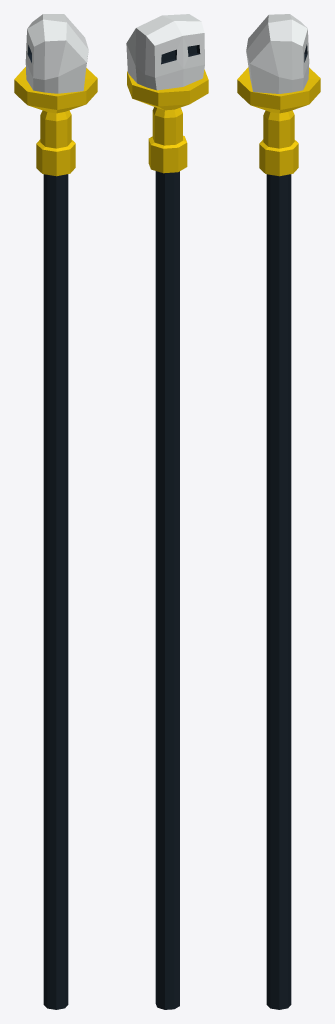
File: Staff2.fbx
3 renders of one model, left to right at view 1: azimuth 90°, elevation 25°; view 2: azimuth 210°, elevation 25°; view 3: azimuth 270°, elevation 25°, orthographic.
Parts seen in each view (by area): view 1: Cylinder.016; view 2: Cylinder.016; view 3: Cylinder.016.
Boxes of the visible parts, box(x1,y1,x2,y2) form: Cylinder.016: box(14, 14, 97, 1009); Cylinder.016: box(126, 14, 208, 1009); Cylinder.016: box(237, 14, 320, 1009).
Size of the model in its own units: 0.139 by 0.139 by 1.81.
